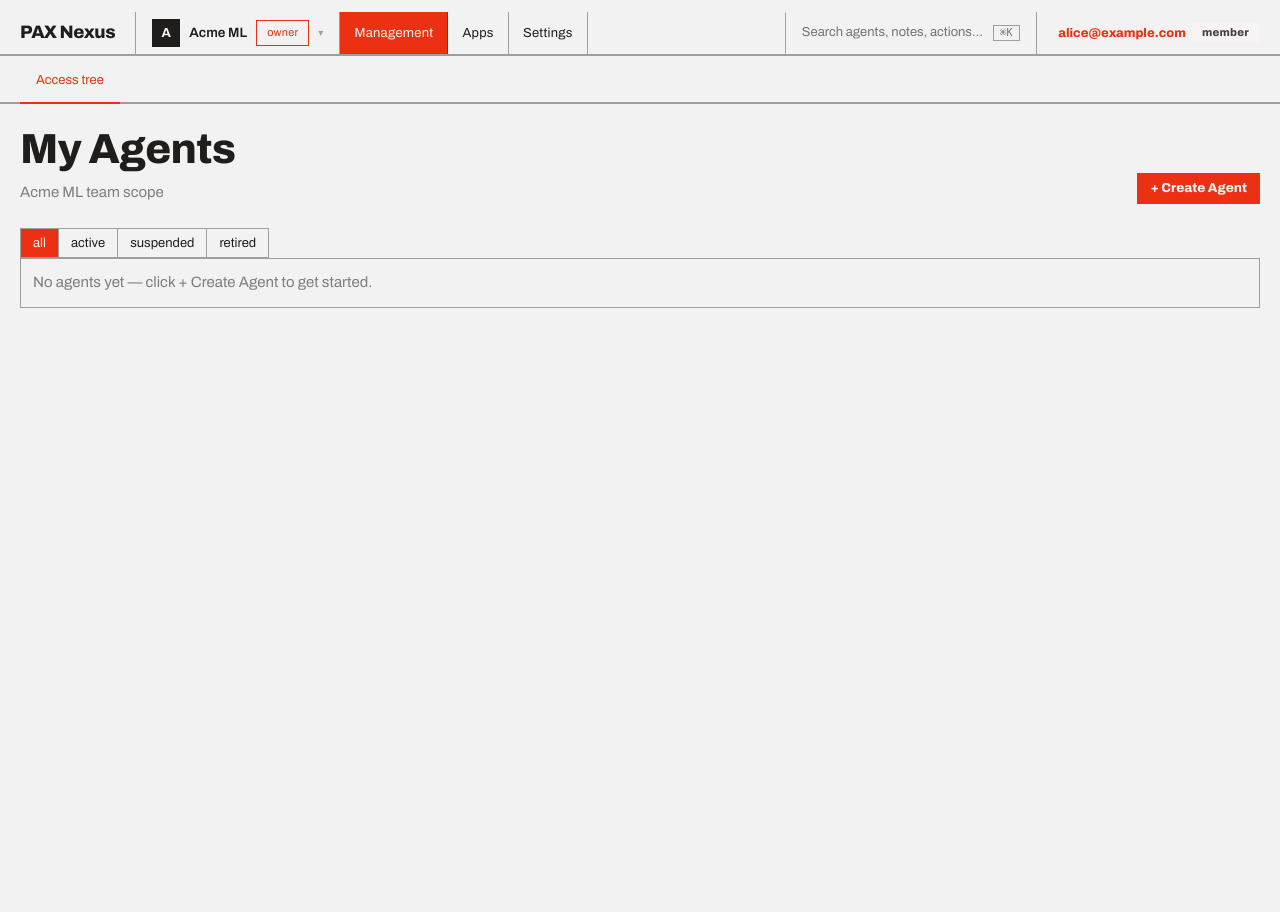
team switcher › switches the current team and re-scopes the UI
expect the heading "My Agents" is shown: met, box [20,126,236,173]
What coordinates should you click on to do the following:
click the button "A Acme ML owner ▾"
I would click on:
 (238, 33)
Its box is [152,15,323,51].
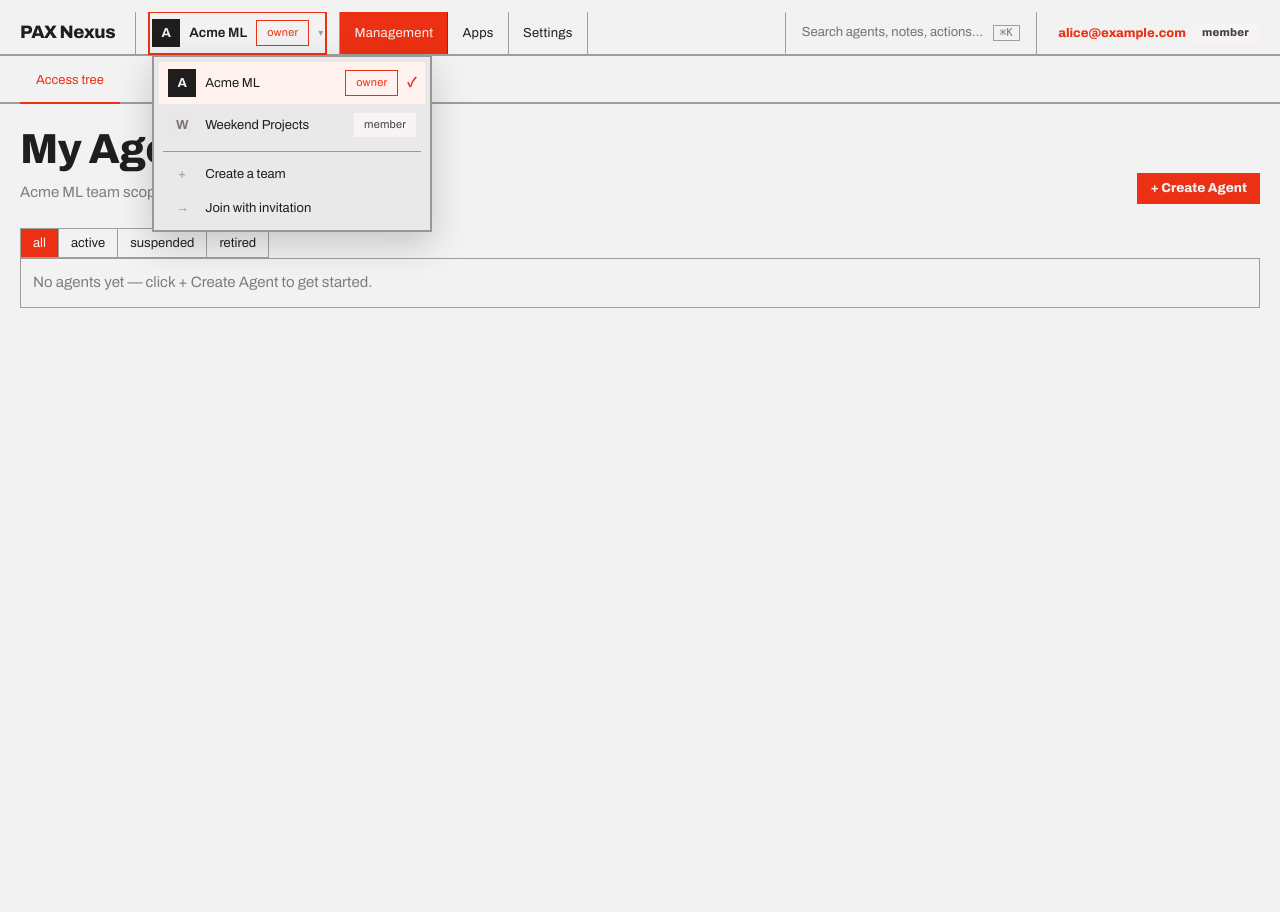
What coordinates should you click on to do the following:
click the menu item "W Weekend Projects member"
I would click on:
 (292, 125)
Its box is [159,104,425,146].
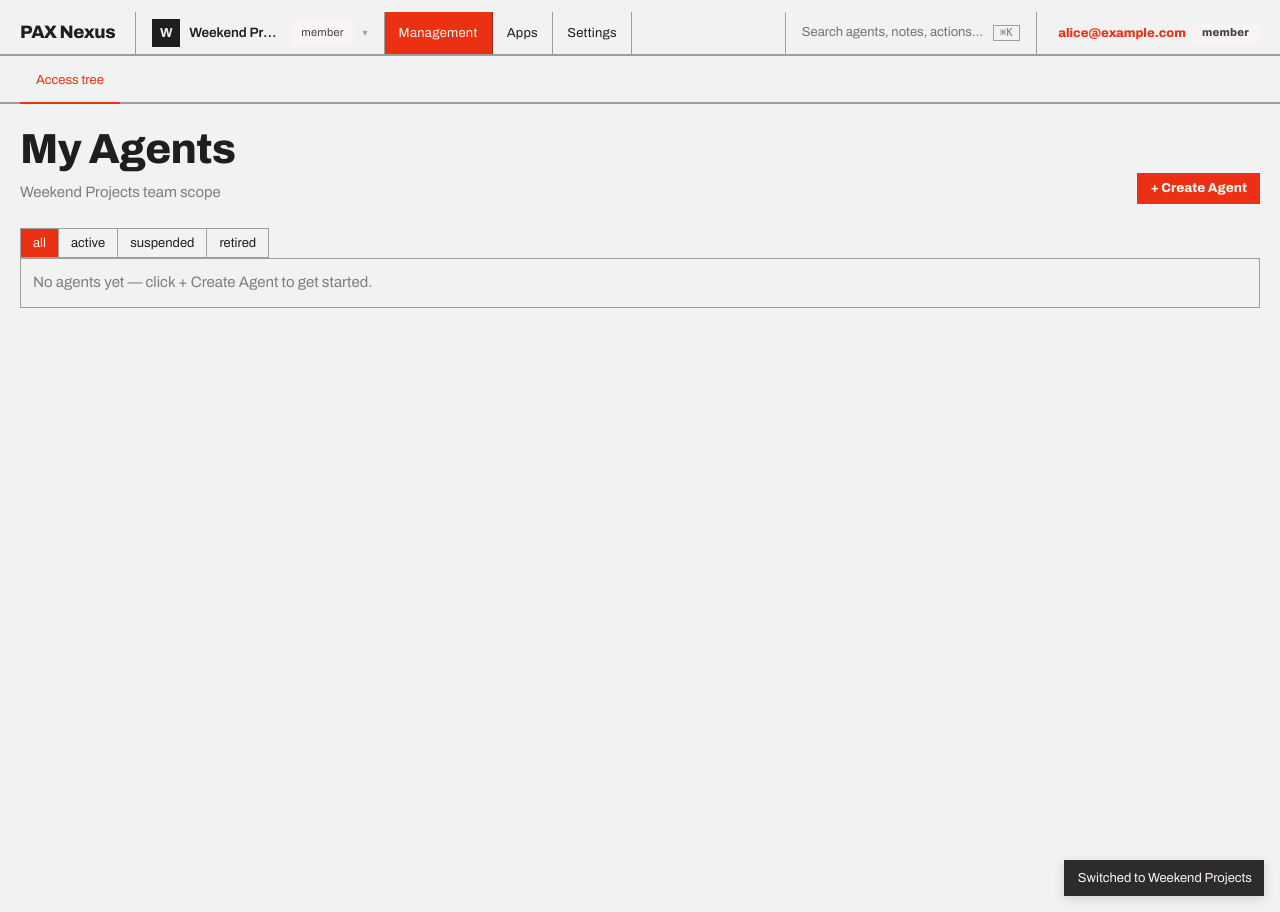
expect the text "Weekend Projects team scope" is shown: met, box [20,181,236,204]
expect the button "W Weekend Projects member ▾" is shown: met, box [152,15,368,51]
